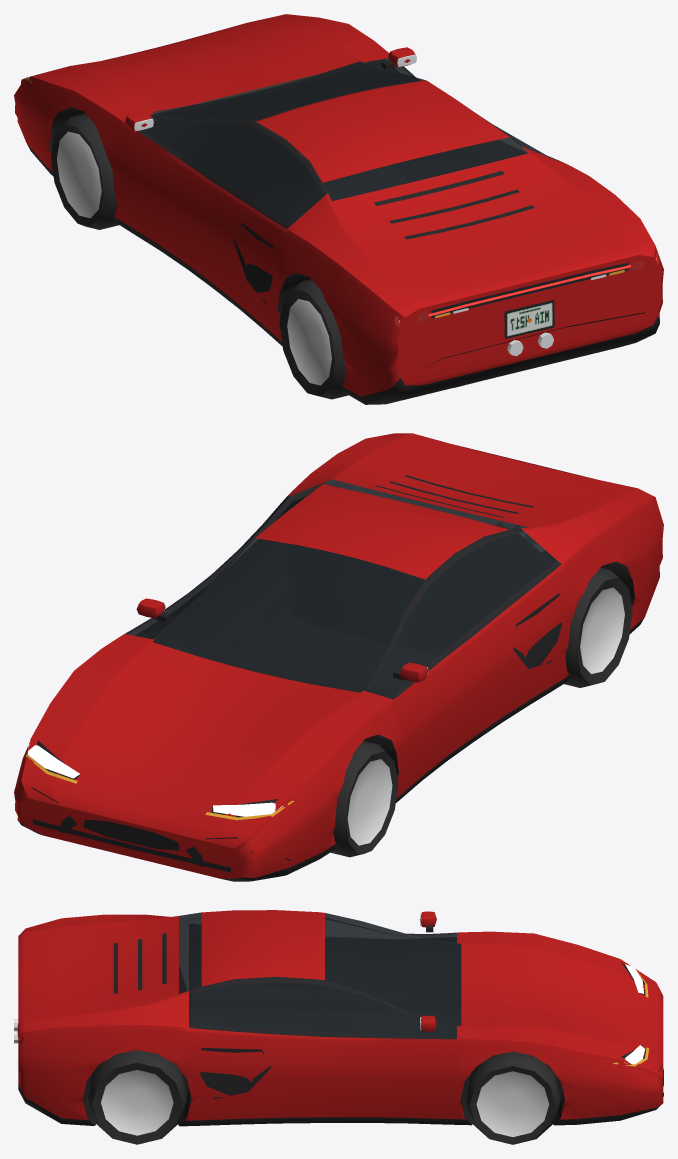
The model's file is sports_car_lod1.glb.
3 views of the same model, one above another, from view 1: azimuth 30°, elevation 25°; view 2: azimuth 150°, elevation 25°; view 3: azimuth 270°, elevation 25° (orthographic). The views are drawn at different scales.
Visible parts, largest first — view 1: body, wheel_RL, wheel_FL; view 2: body, wheel_RL, wheel_FL; view 3: body, wheel_RR, wheel_FR.
Boxes of the visible parts, x1=… form: body: x1=14, y1=14, x2=663, y2=404; wheel_RL: x1=279, y1=279, x2=348, y2=399; wheel_FL: x1=51, y1=113, x2=119, y2=229; body: x1=14, y1=433, x2=663, y2=881; wheel_RL: x1=564, y1=567, x2=632, y2=687; wheel_FL: x1=330, y1=741, x2=398, y2=857; body: x1=14, y1=910, x2=663, y2=1126; wheel_RR: x1=87, y1=1050, x2=186, y2=1144; wheel_FR: x1=465, y1=1051, x2=560, y2=1144.
Size of the model in its own units: 1.95 by 1.15 by 4.53.
Materials: 12 (1 with a texture image).
